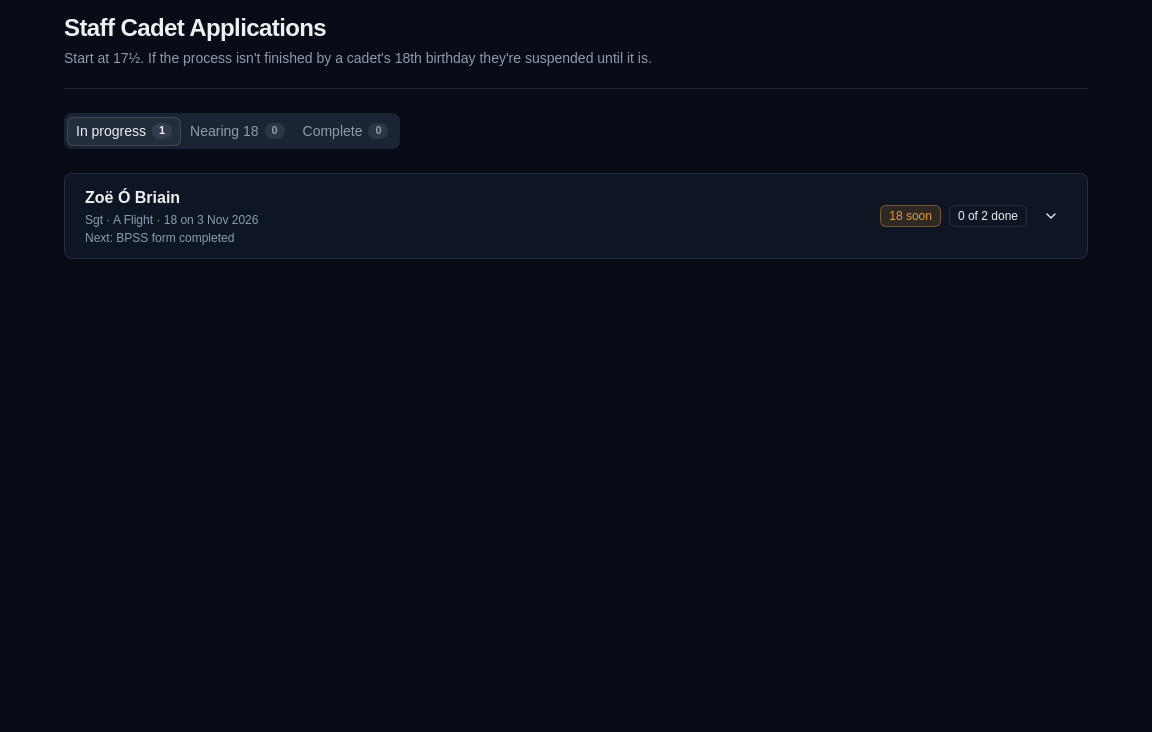
Test: Staff cadet applications › links each paper form to print, opening in a new tab, and emails as mail links
Click the button named "Expand application for Zoë Ó Briain" at (1051, 216), box [1035, 200, 1067, 232]
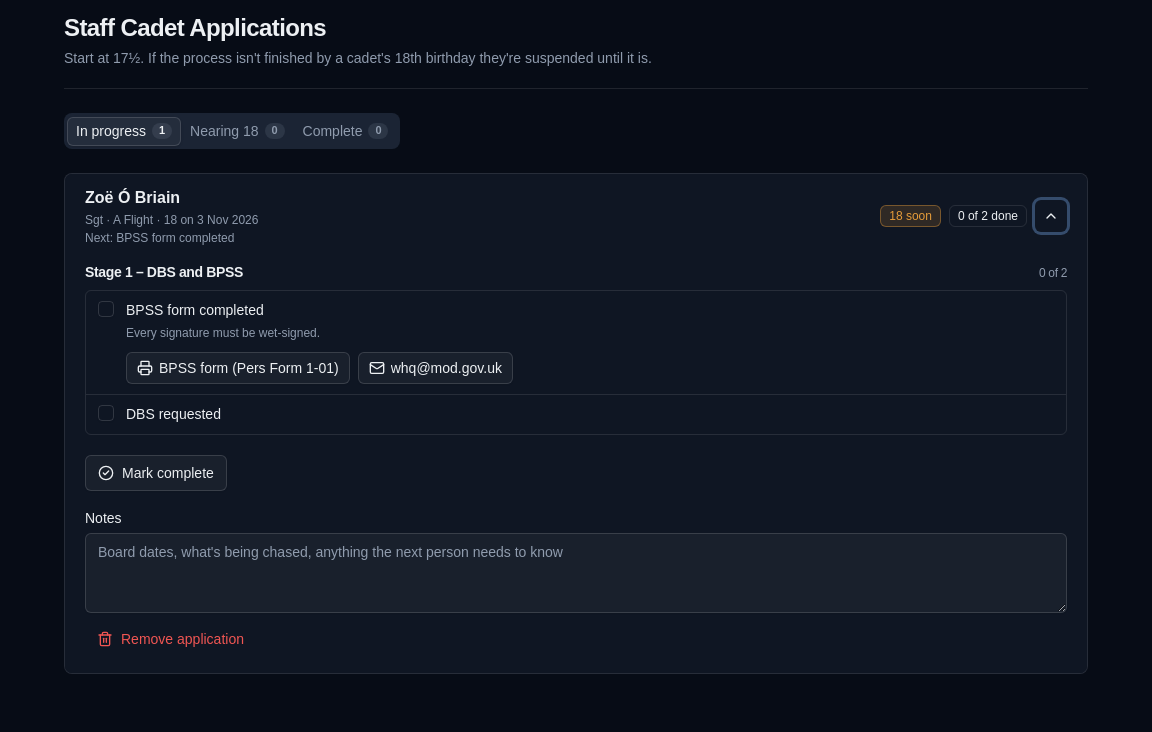
Expected: the text "Every signature must be wet-signed." is shown, [126, 326, 320, 340]
